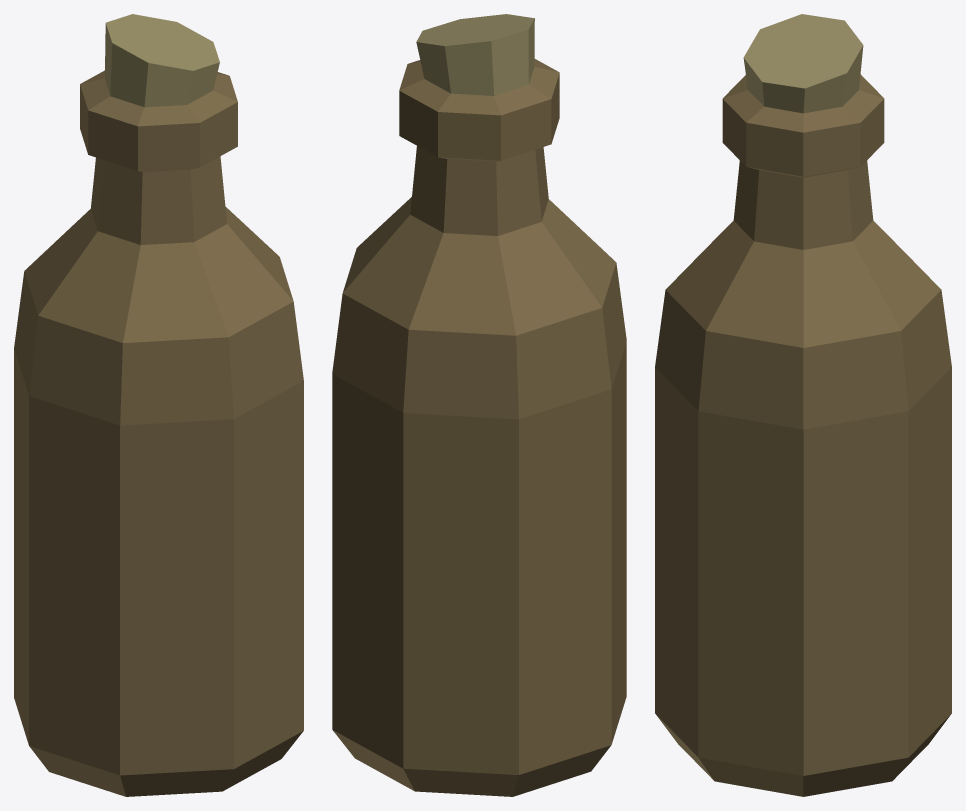
The model's file is Bottle_1.fbx.
3 renders of one model, left to right at view 1: azimuth 30°, elevation 25°; view 2: azimuth 150°, elevation 25°; view 3: azimuth 270°, elevation 25°, orthographic. The views are drawn at different scales.
Parts seen in each view (by area): view 1: Bottle_1; view 2: Bottle_1; view 3: Bottle_1.
Part boxes in pixels (box(x1,y1,x2,y2)): Bottle_1: box(14, 14, 303, 796); Bottle_1: box(332, 14, 626, 796); Bottle_1: box(655, 14, 951, 796).
Size of the model in its own units: 9.2 by 24.2 by 9.2.
